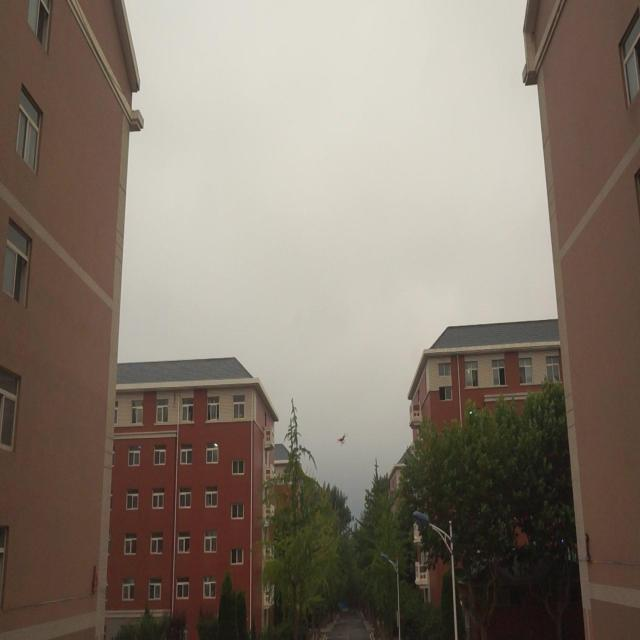drone: (335, 428, 347, 449)
